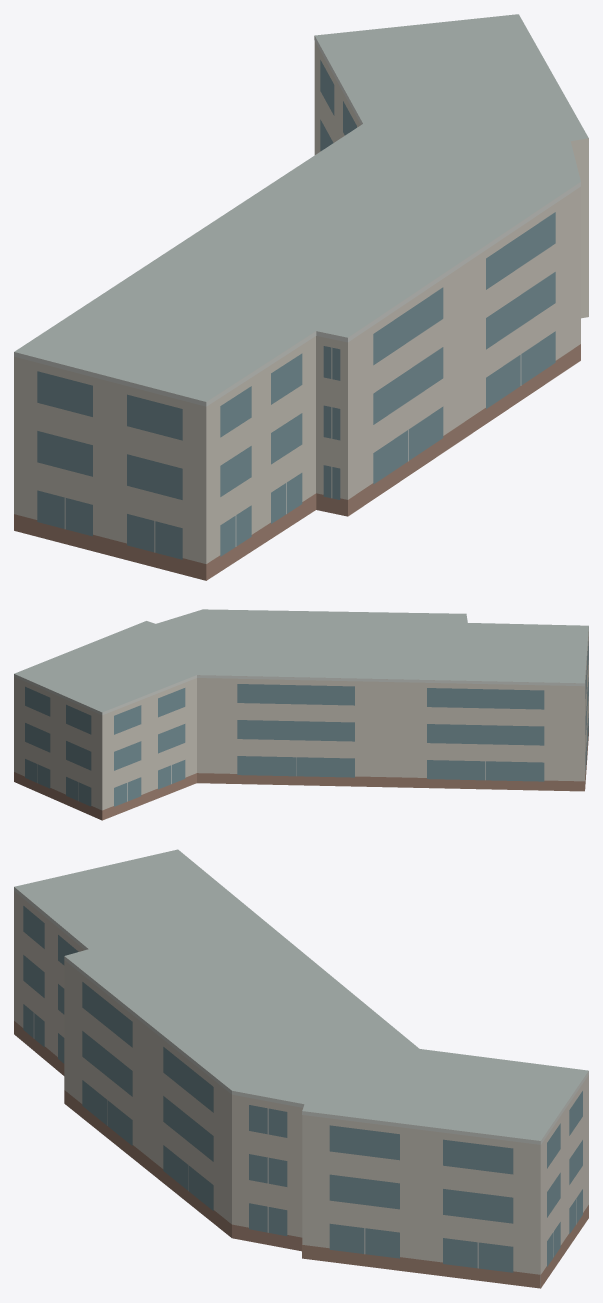
The model's file is survey-upis-32731707.glb.
3 renders of one model, top to bottom at view 1: azimuth 30°, elevation 25°; view 2: azimuth 150°, elevation 25°; view 3: azimuth 270°, elevation 25°, orthographic. The views are drawn at different scales.
Visible parts, largest first — view 1: survey-upis-32731707.tmp; view 2: survey-upis-32731707.tmp; view 3: survey-upis-32731707.tmp.
Boxes of the visible parts, <box> form: survey-upis-32731707.tmp: <box>14,14,588,580</box>; survey-upis-32731707.tmp: <box>14,609,588,820</box>; survey-upis-32731707.tmp: <box>14,849,588,1288</box>.
Size of the model in its own units: 38.81 by 9.15 by 32.33.
